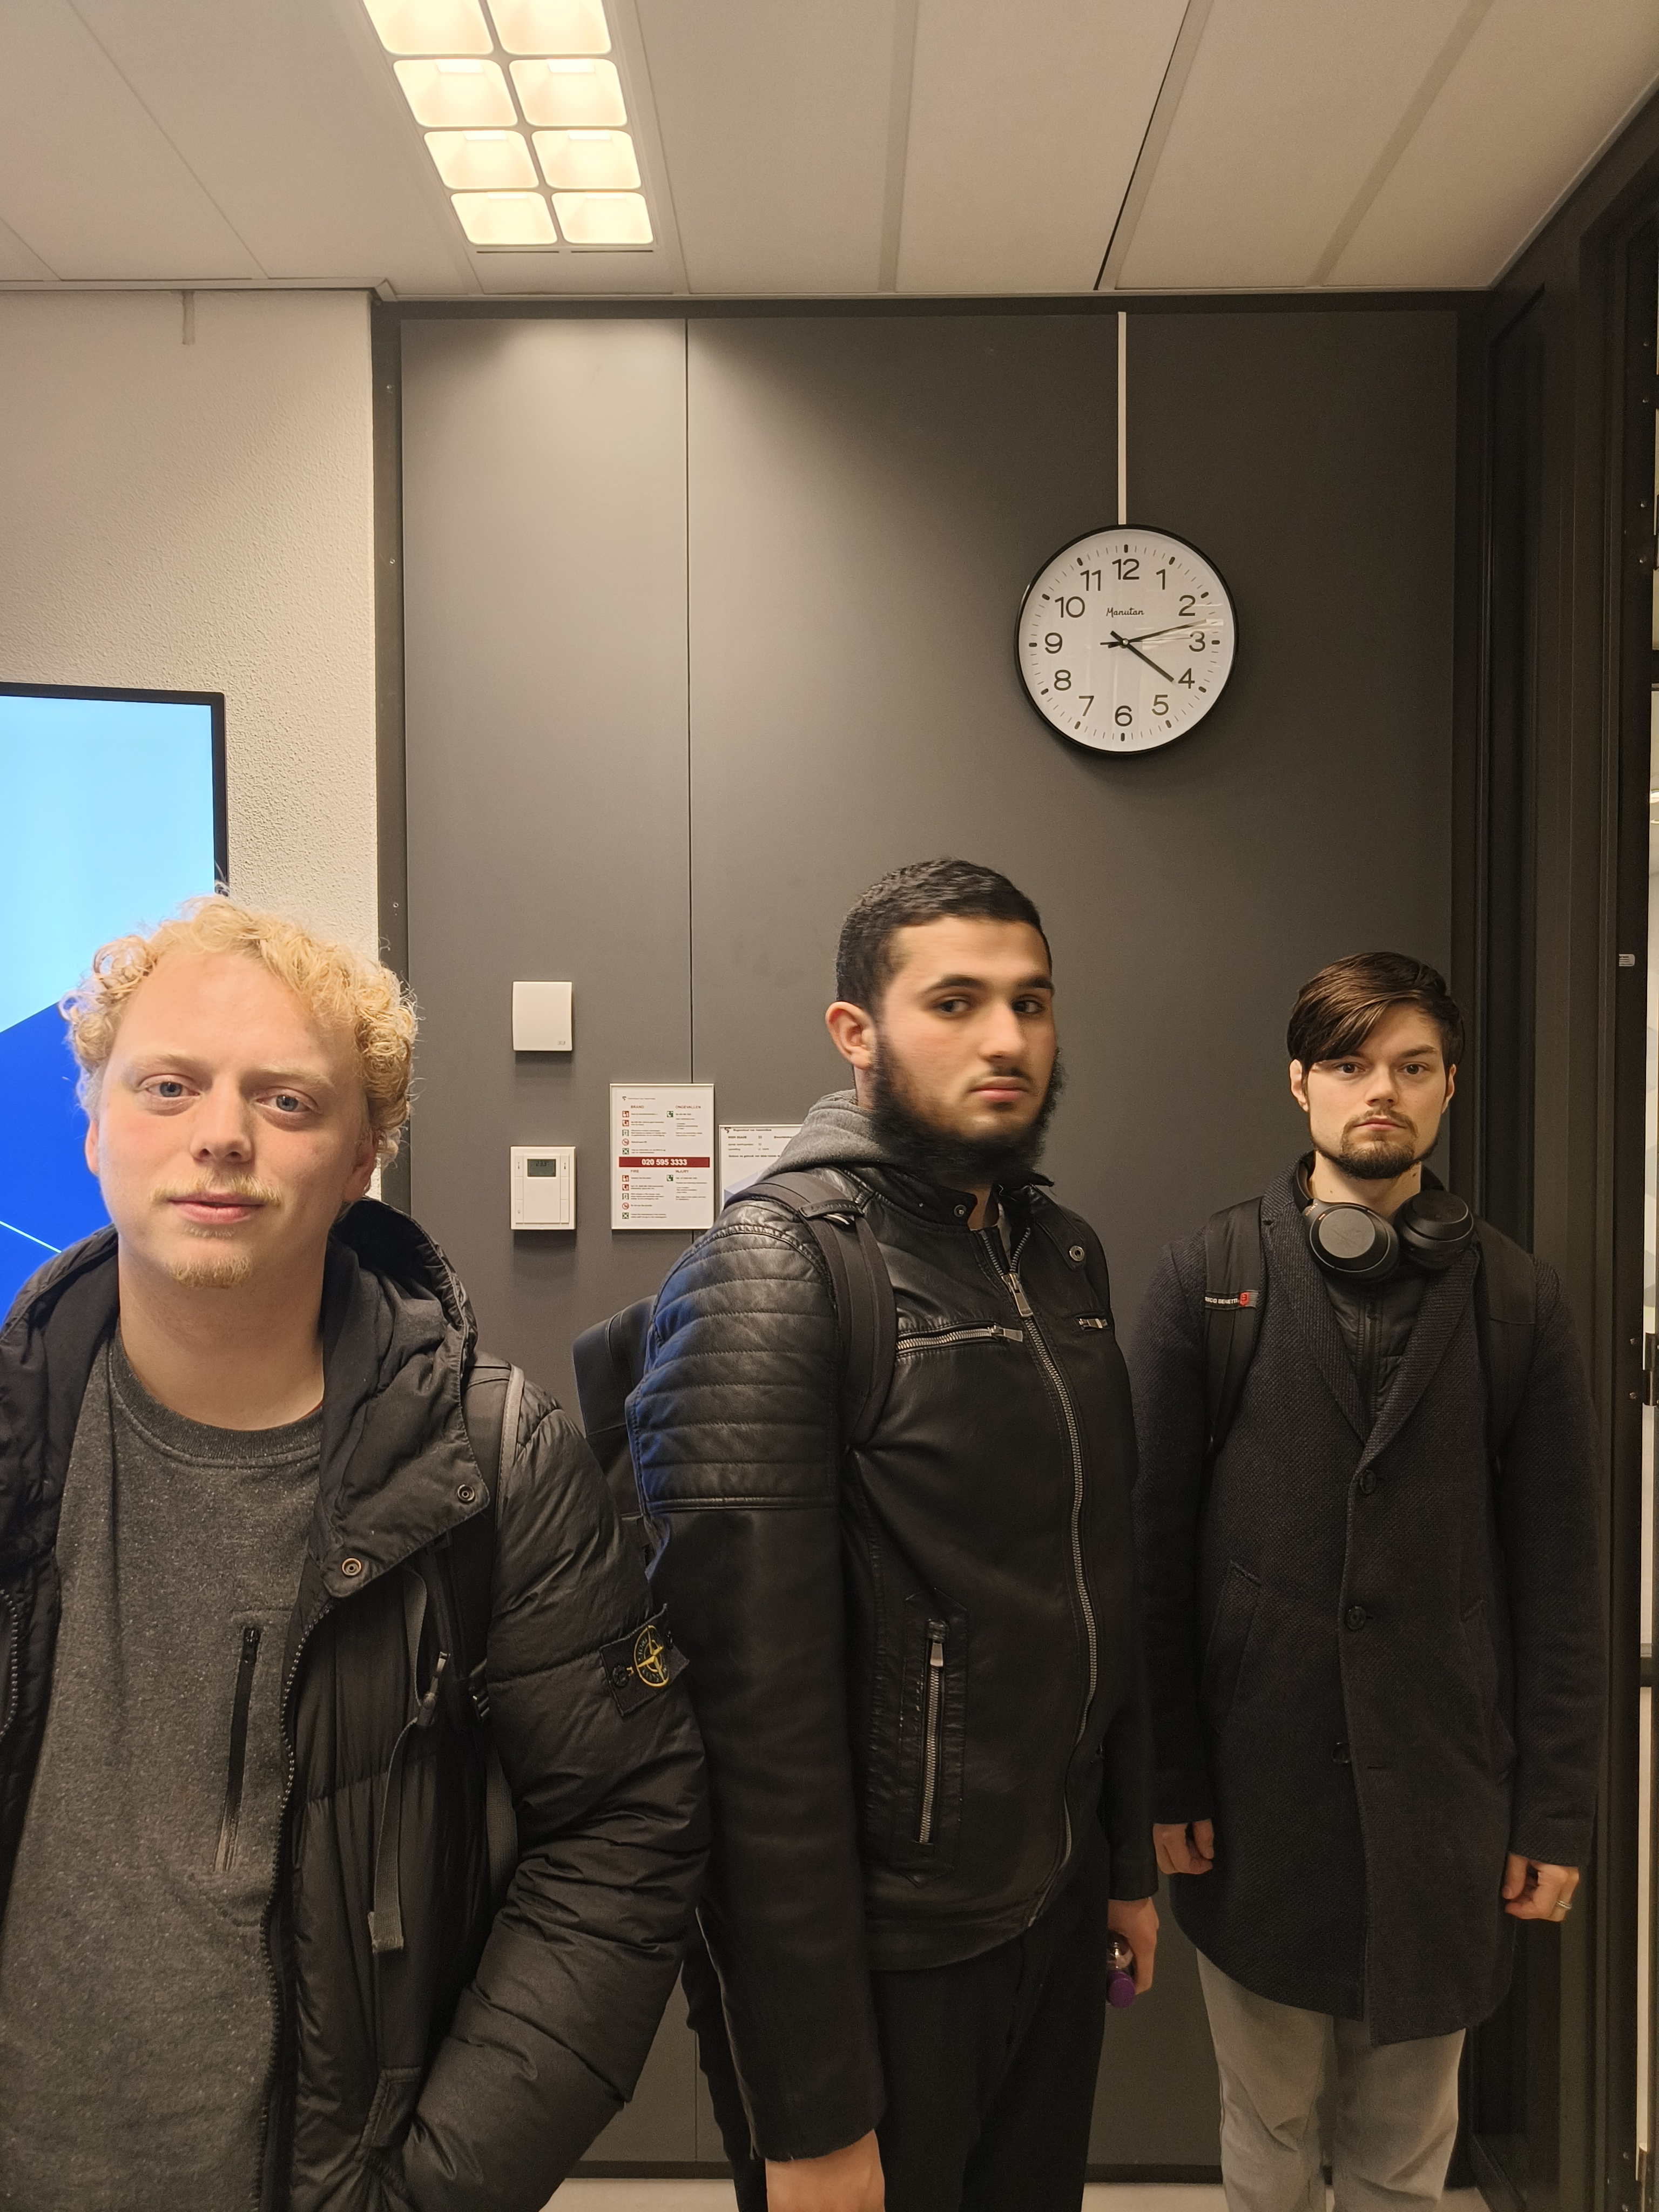face: (53, 911, 422, 1323), (773, 861, 1076, 1211), (1234, 934, 1500, 1207)
